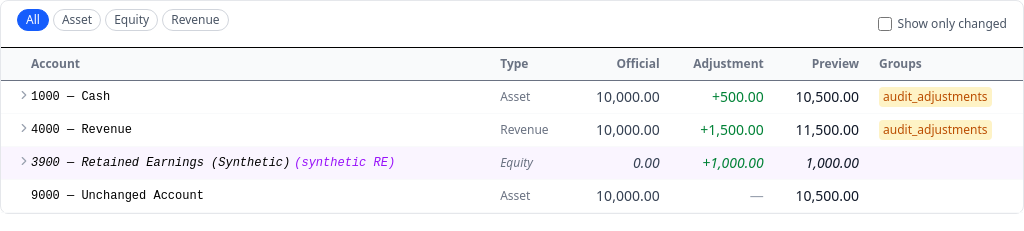
Milestone 18: Draft Overlay Preview › OverlayComparisonTable filter hides unchanged accounts
The width and height of the screenshot is (1024, 231).
// Toggle "show only changed"
Click the checkbox labelled "Show only changed" at (884, 24), box [878,17,892,31]
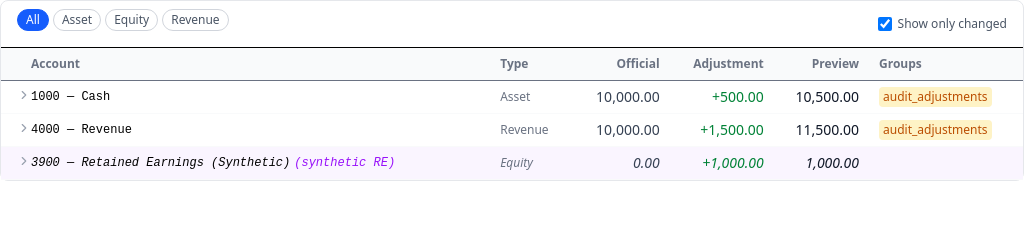
Expected: the text "1000 — Cash" is shown, [31,80,500,114]
Expected: the text "9000" is gone
